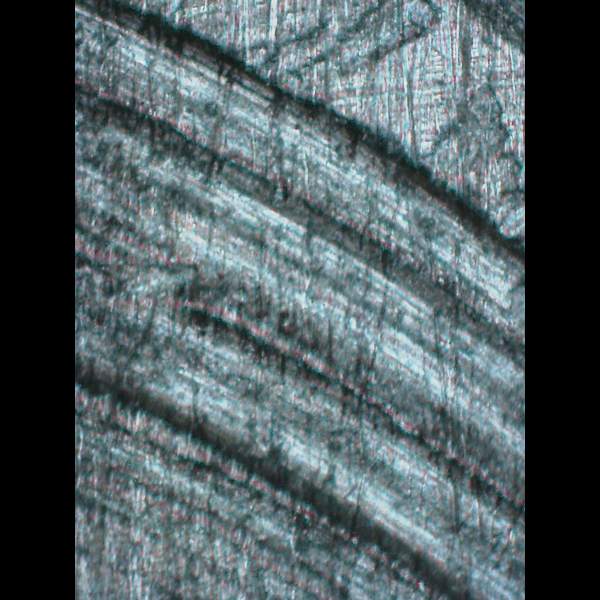d: (75, 11, 519, 599)
